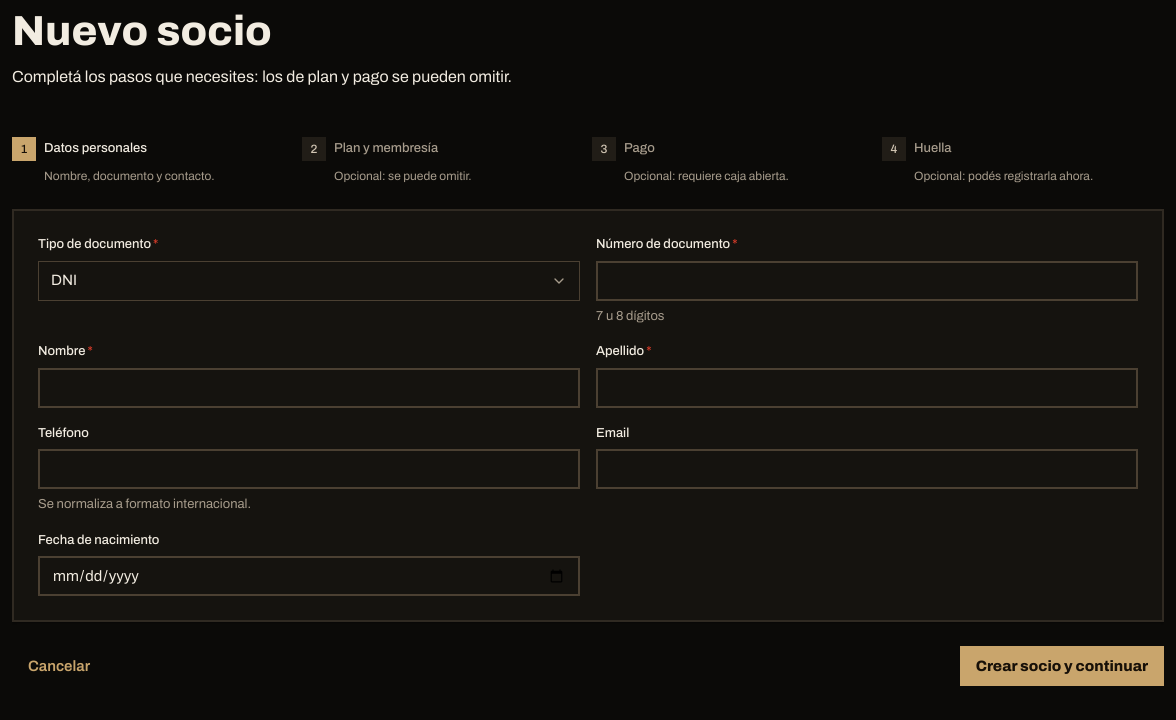
Test case: NewMemberPage › omitir el plan lleva al paso opcional de huella sin crear membresía
The width and height of the screenshot is (1176, 720).
Type "20123456" into the field labelled "Número de documento*" at (867, 280), box x1=596 y1=260 x2=1138 y2=300
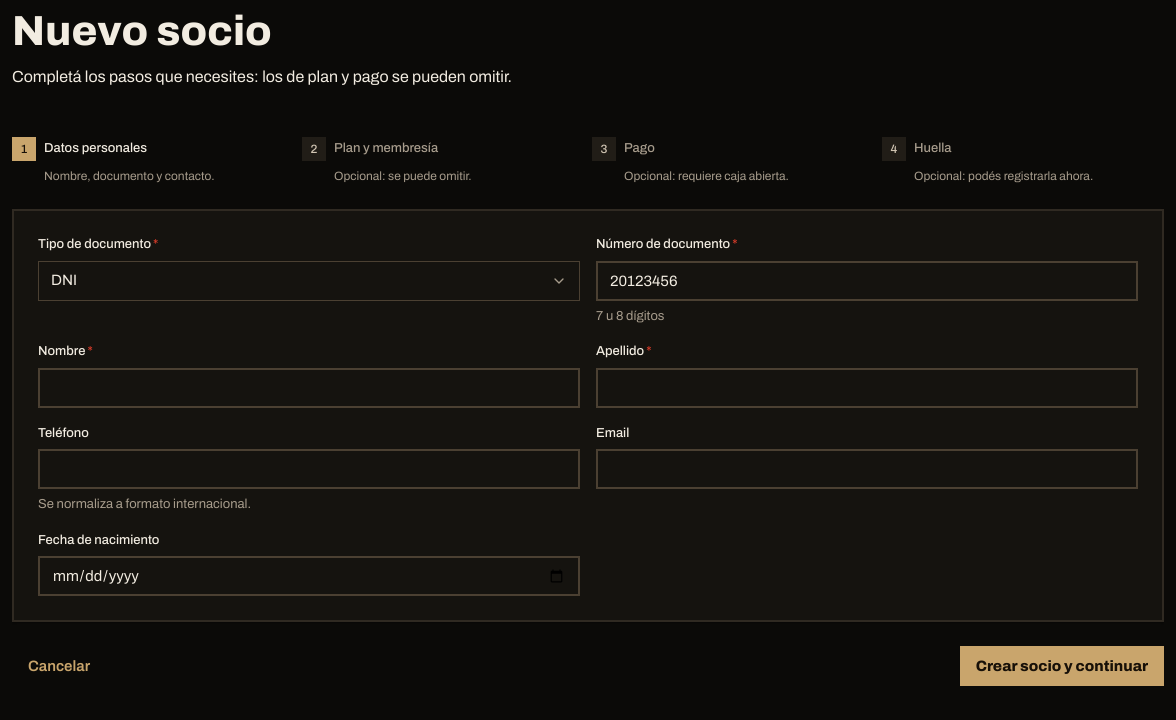
Type "Lucía" into the field labelled "Nombre*" at (309, 388), box x1=38 y1=368 x2=580 y2=408
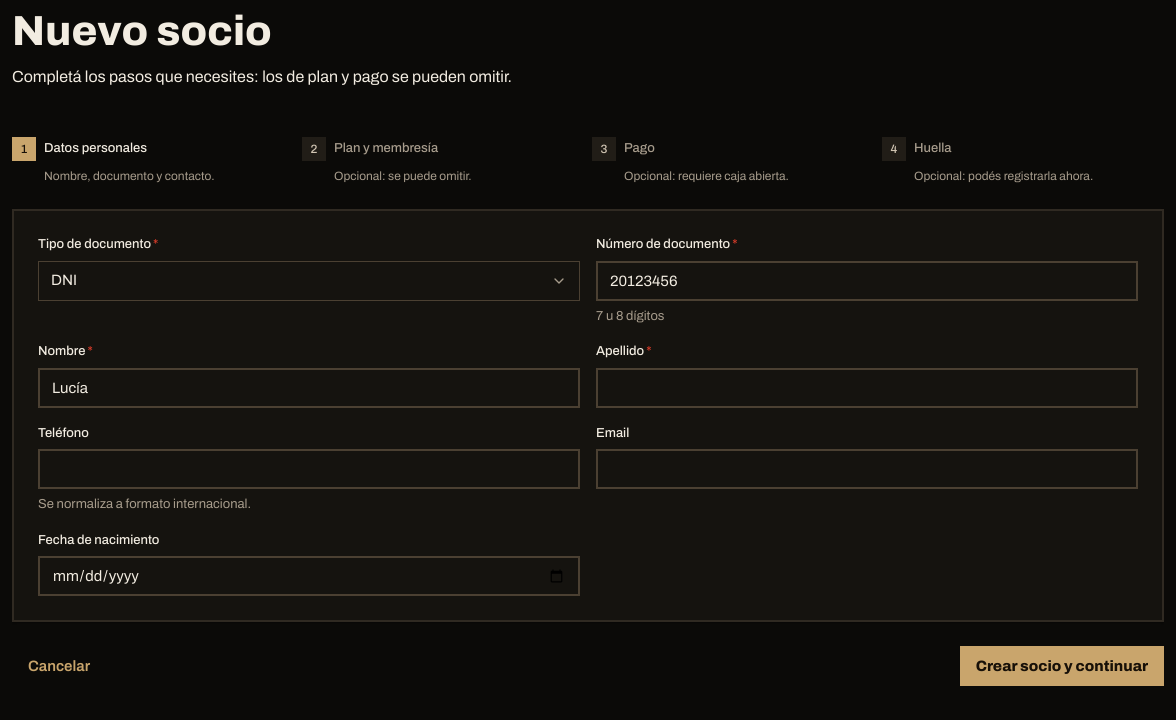
Type "Pérez" into the field labelled "Apellido*" at (867, 388), box x1=596 y1=368 x2=1138 y2=408
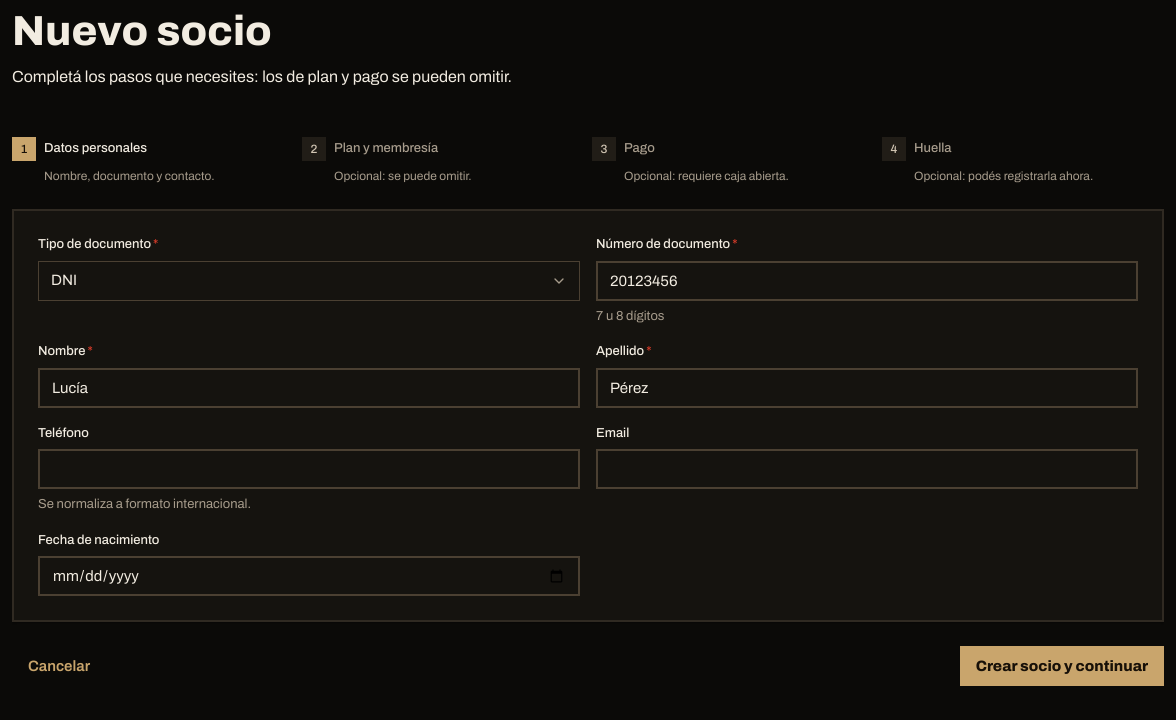
Click the button "Crear socio y continuar" at (1062, 666), box x1=960 y1=646 x2=1164 y2=686
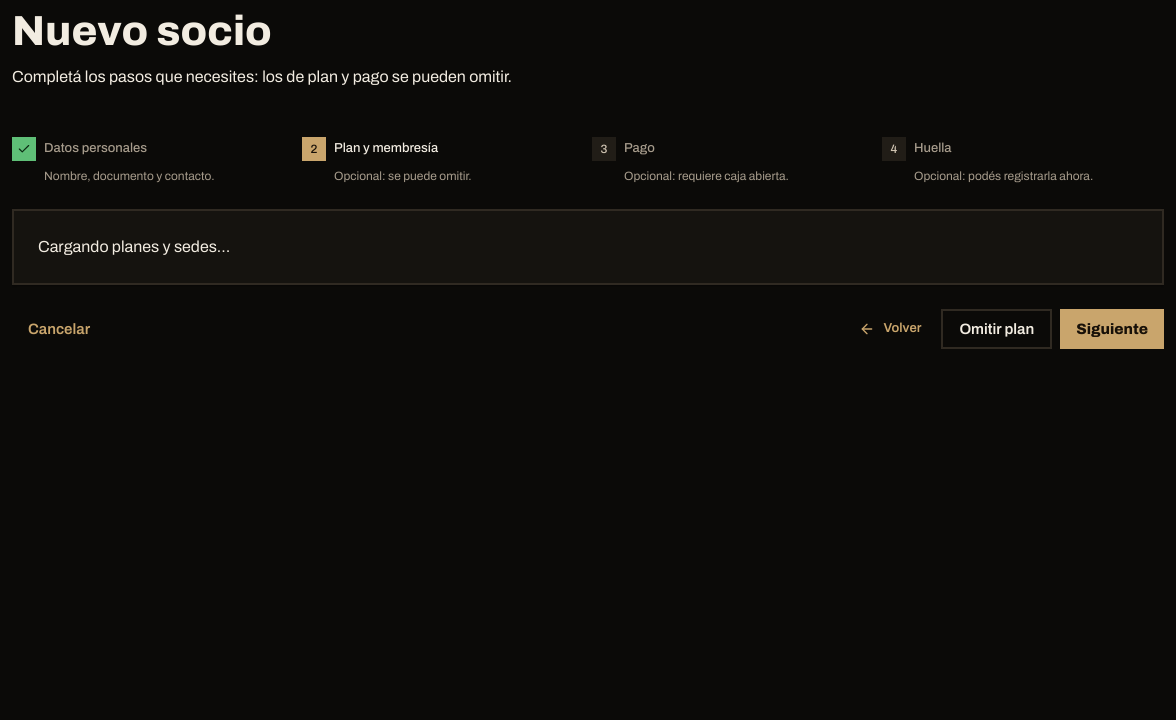
expect the text "Plan y membresía" is shown: met, box x1=334 y1=139 x2=438 y2=159
Click the button "Omitir plan" at (997, 329), box x1=941 y1=309 x2=1052 y2=349
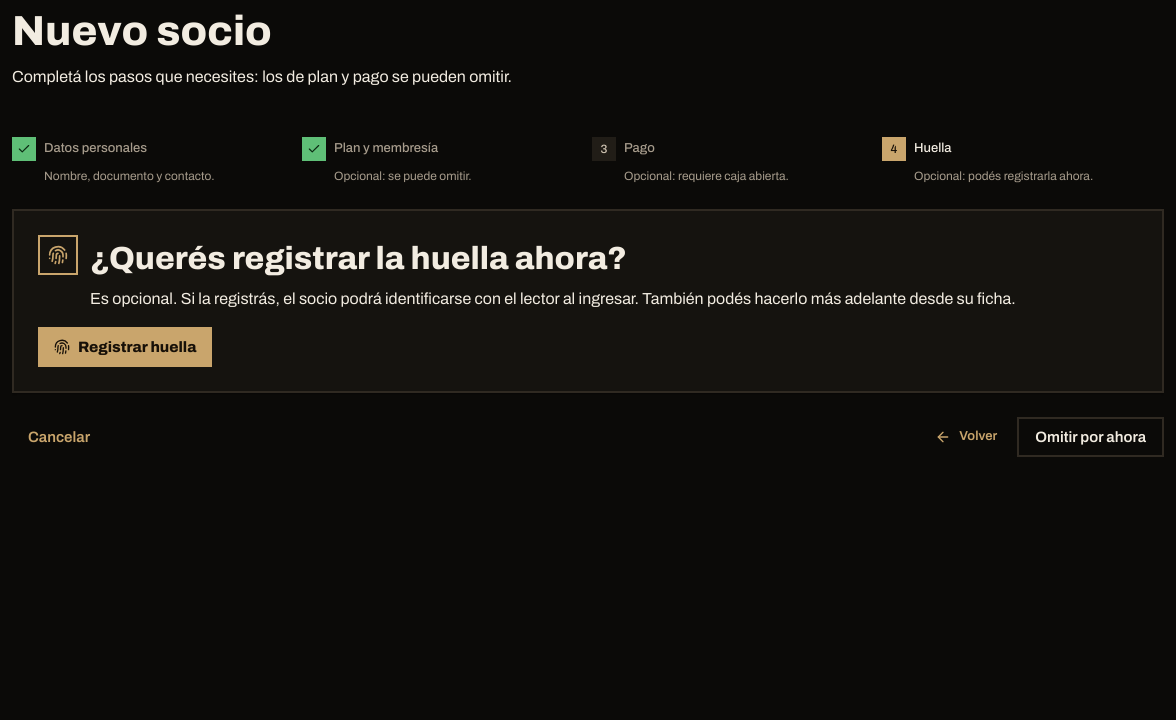
expect the heading "¿Querés registrar la huella ahora?" is shown: met, box x1=90 y1=241 x2=627 y2=276
Click the button "Omitir por ahora" at (1091, 437), box x1=1017 y1=417 x2=1164 y2=457
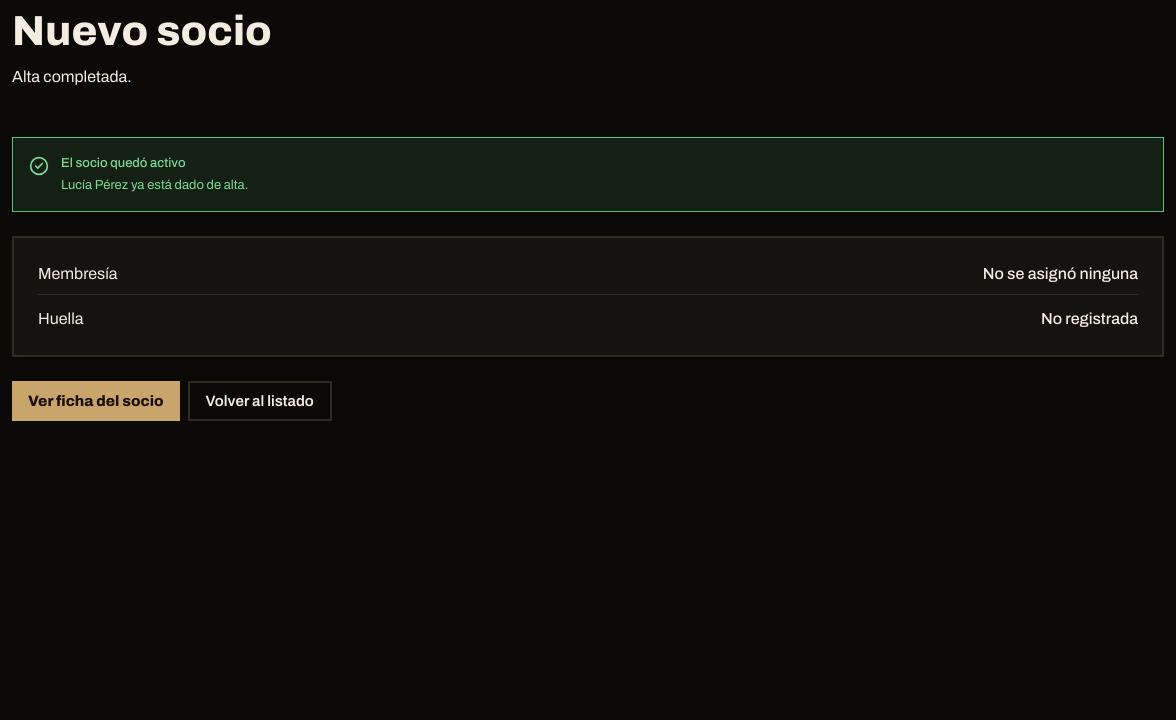
expect the text "El socio quedó activo" is shown: met, box x1=61 y1=156 x2=186 y2=170
expect the text "No se asignó ninguna" is shown: met, box x1=983 y1=262 x2=1138 y2=286
